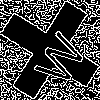W: (25, 25, 89, 89)
